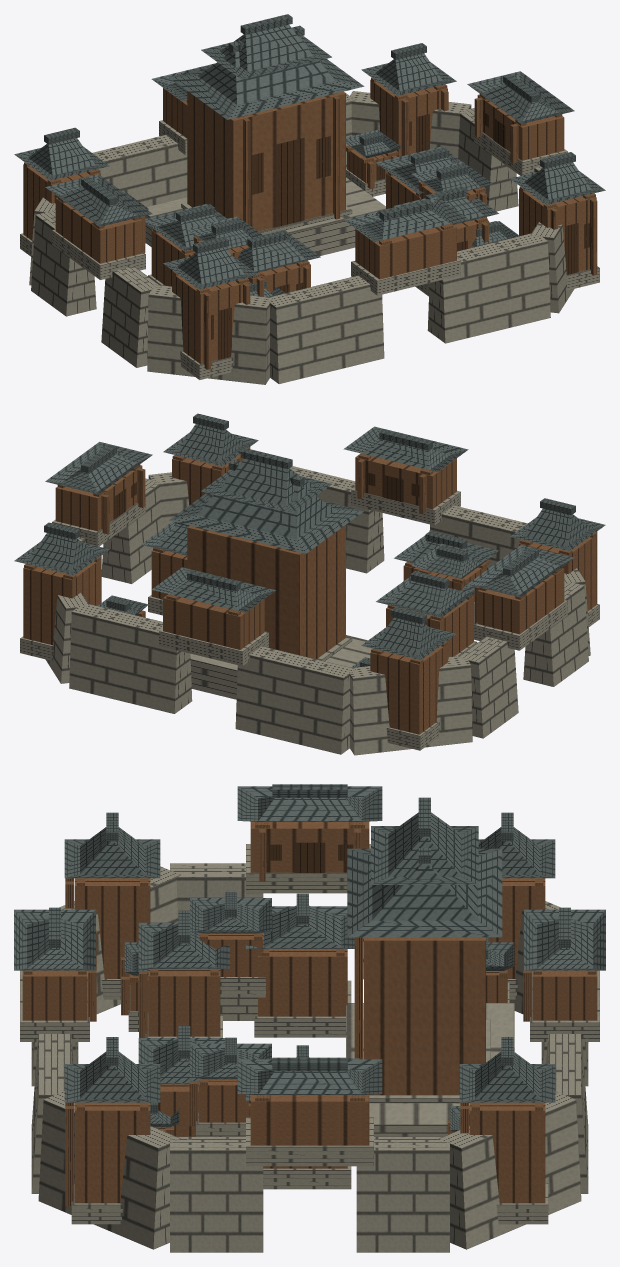
Rendered from city2-lod1.glb.
3 views of the same model, one above another, from view 1: azimuth 30°, elevation 25°; view 2: azimuth 150°, elevation 25°; view 3: azimuth 270°, elevation 25° (orthographic). The views are drawn at different scales.
Bounding box in the file's own units: 2.03 × 0.901 × 1.65.
Materials: 1 (1 with a texture image).
